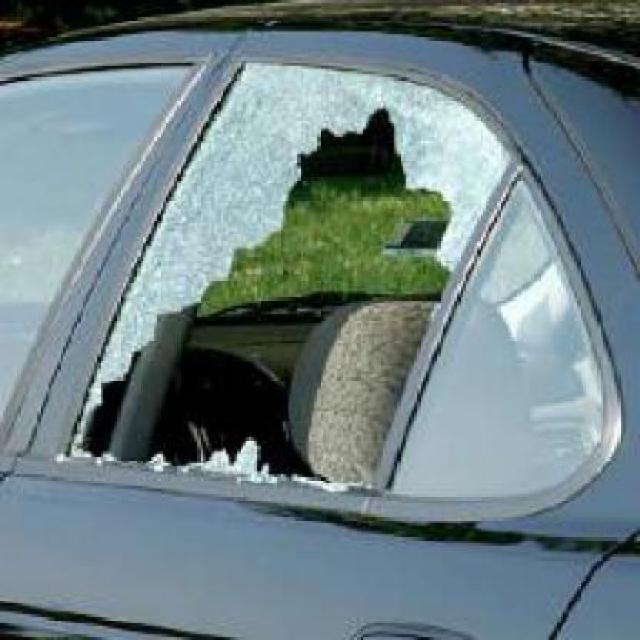damaged-window: (67, 54, 618, 523)
